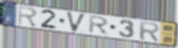2: (40, 9, 58, 30)
3: (118, 19, 136, 39)
R: (138, 20, 161, 43), (17, 5, 39, 28), (88, 15, 111, 36)
V: (65, 10, 88, 34)
